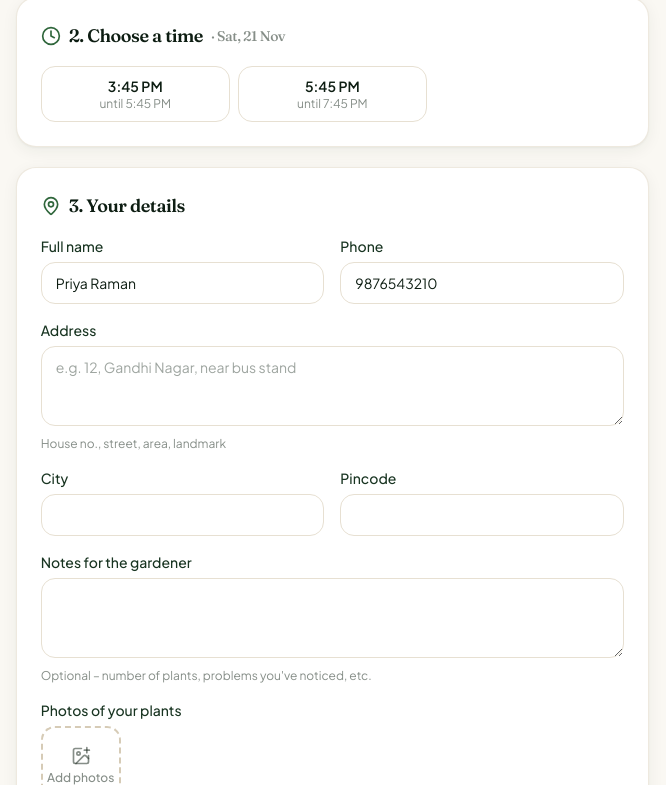
Test case: booking a service: the reported bug › only when the slot was just taken (409) is the time cleared, with an explanation
(page scrolled)
Expected: the field labelled "Full name" holds "Priya Raman", [41,262,324,304]
Type "12, Gandhi Nagar, near bus stand" into the text box labelled "Address" at (332, 386), box [41,346,624,426]
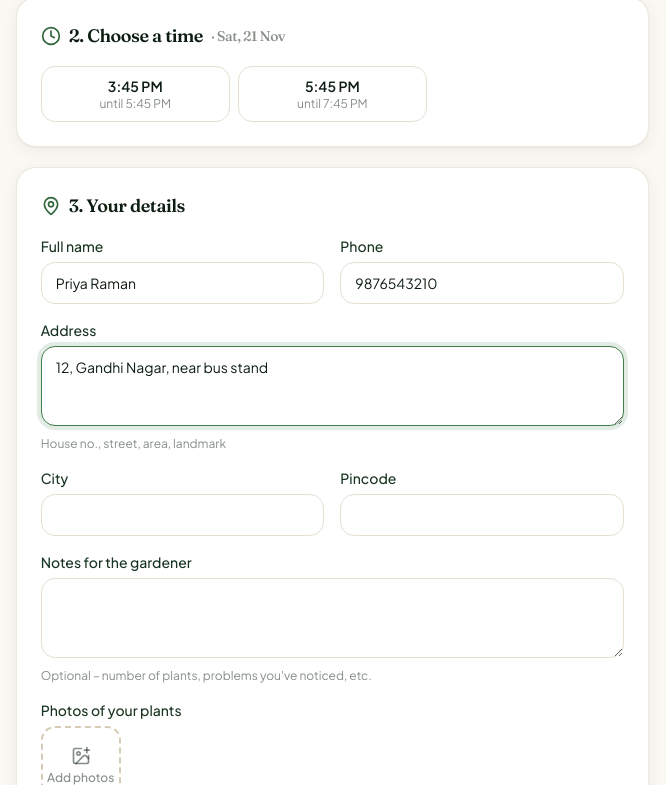
Type "Coimbatore" into the field labelled "City" at (182, 515), box [41,494,324,536]
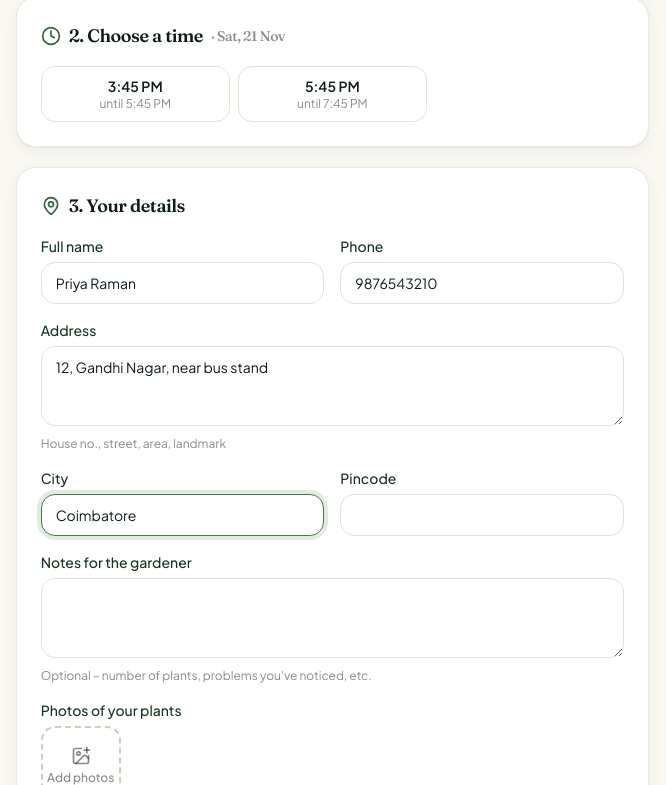
Type "641046" into the field labelled "Pincode" at (482, 515), box [340,494,624,536]
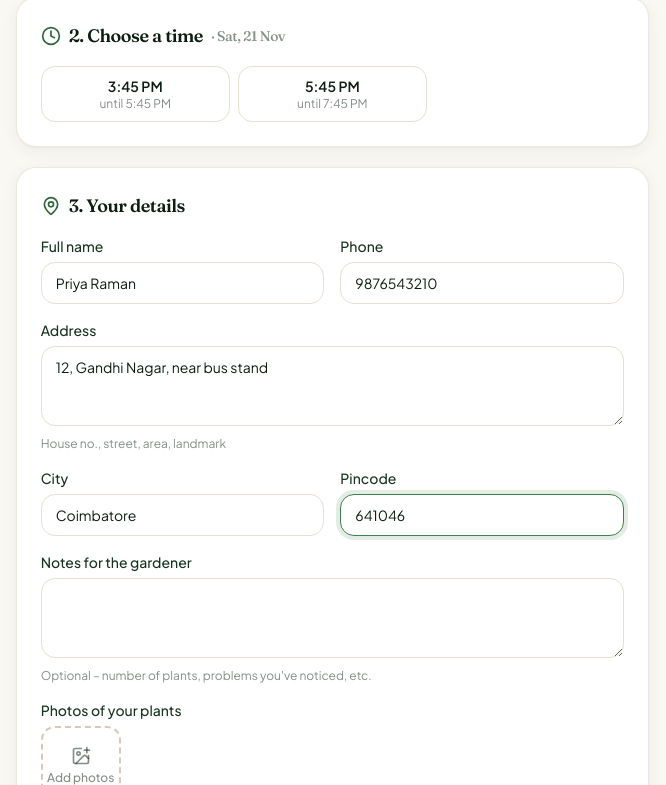
Click the button "3:45 PM until 5:45 PM" at (135, 94), box [41,66,230,122]
(page scrolled)
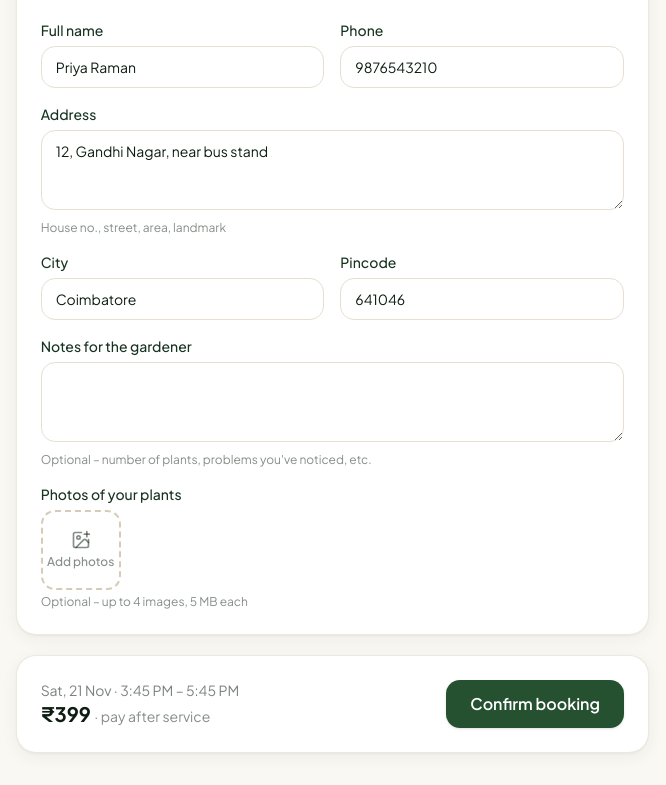
Click the button "Confirm booking" at (535, 704), box [446,680,624,728]
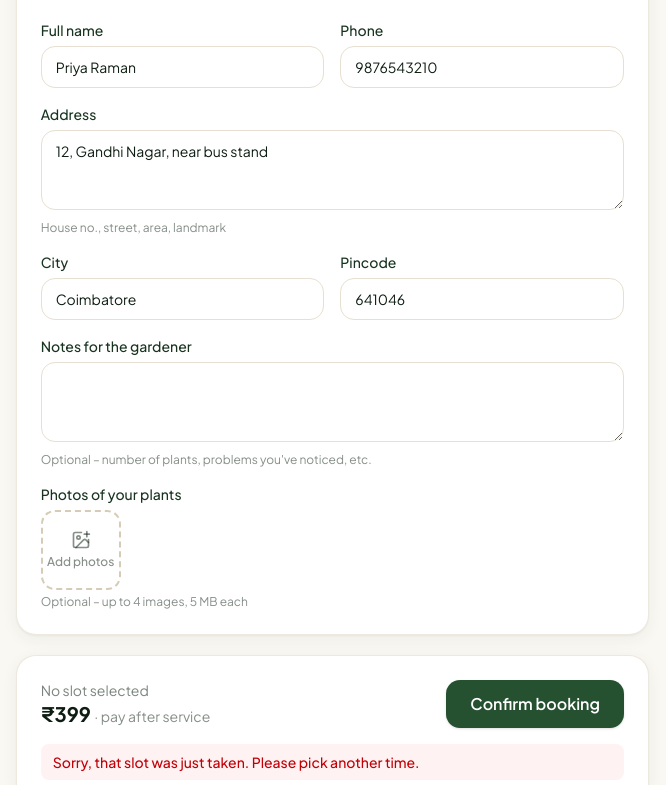
Result: the text "Sorry, that slot was just taken. Please pick another time." is shown at [41,744,624,780]
Result: the text "No slot selected" is shown at [41,681,149,699]
